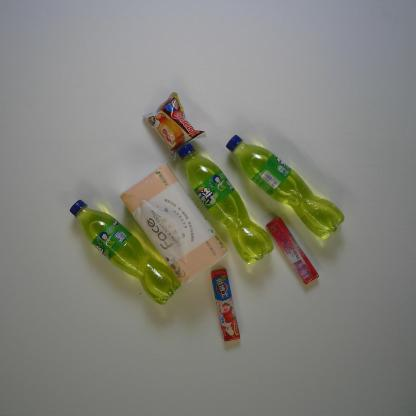Candy: (266, 214, 321, 286), (207, 266, 242, 344)
Dessert: (140, 90, 206, 163)
Drink: (225, 133, 346, 242), (68, 197, 183, 306), (177, 143, 275, 266)
Tissue: (120, 163, 230, 285)
